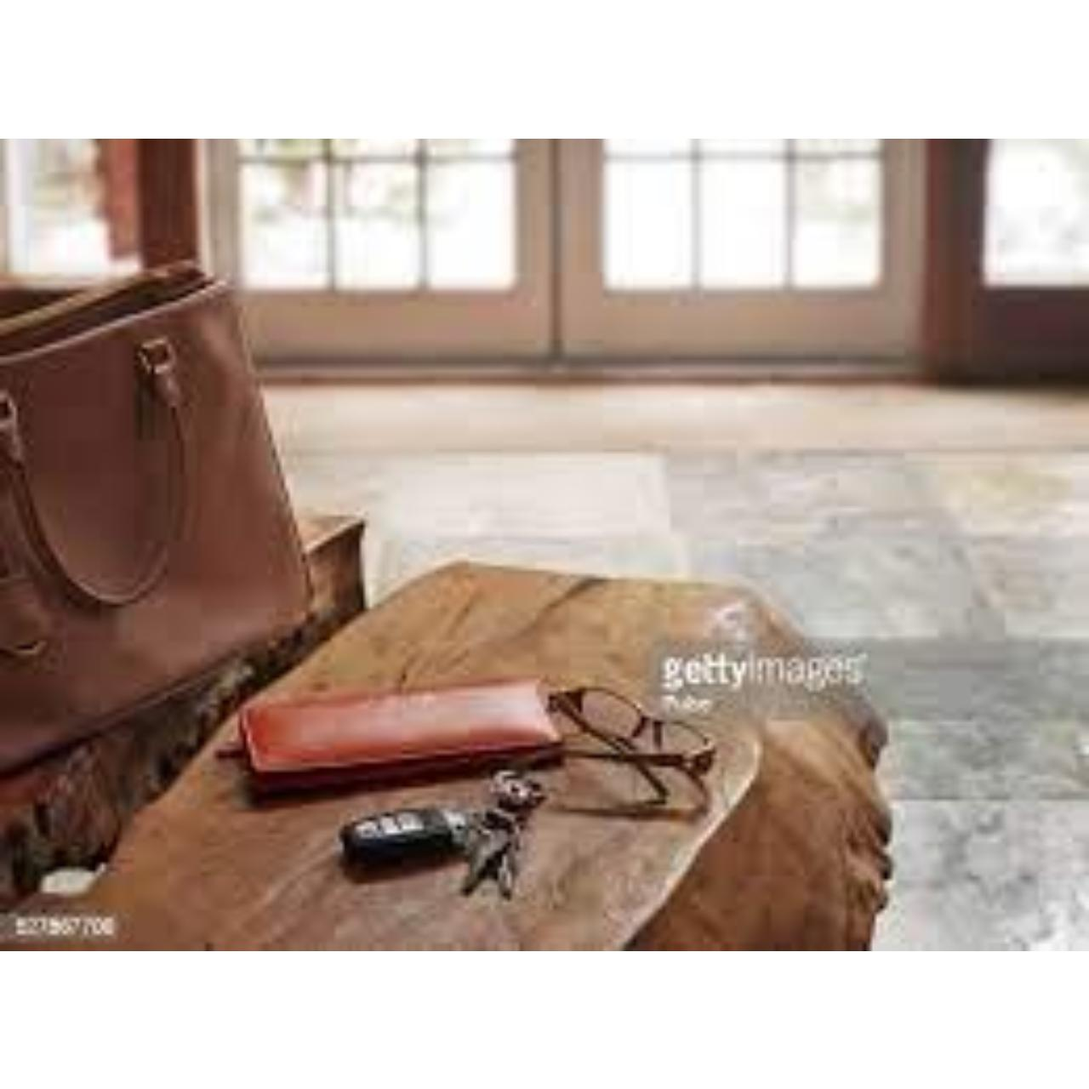wallet: (203, 666, 550, 808)
